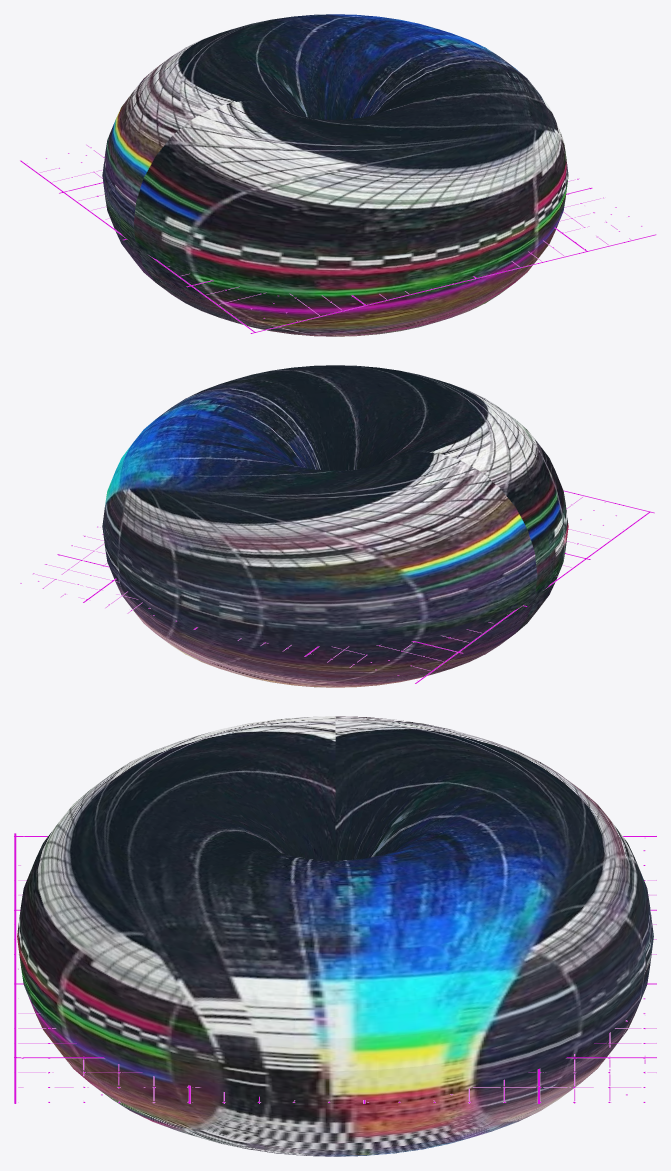
3 views of the same model, one above another, from view 1: azimuth 30°, elevation 25°; view 2: azimuth 150°, elevation 25°; view 3: azimuth 270°, elevation 25° (orthographic). The views are drawn at different scales.
Visible parts, largest first — view 1: Torus, floor; view 2: Torus, floor; view 3: Torus, floor.
Part boxes in pixels (x1,y1,x2,y2): Torus: (102,14,568,336); floor: (20,144,656,333); Torus: (102,365,568,687); floor: (20,490,654,683); Torus: (17,716,653,1156); floor: (14,833,656,1103).
Size of what is drawn, in the model's own units: 31.81 by 14.67 by 31.81.
Materials: 2 (2 with a texture image).
